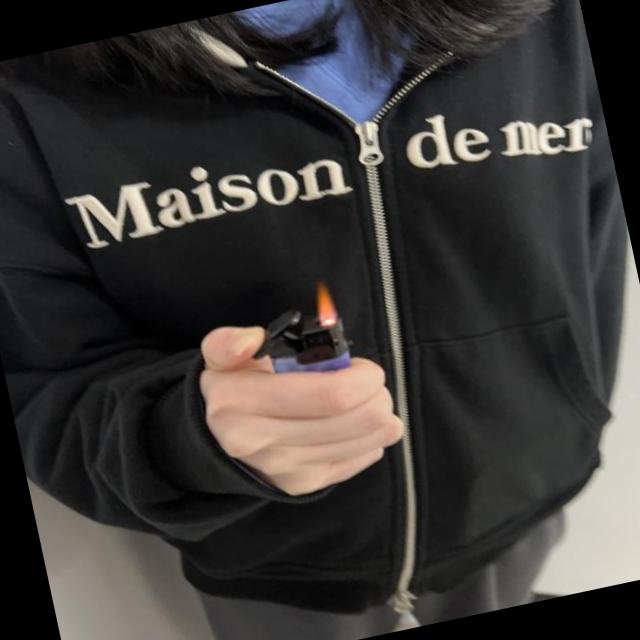Fire: (304, 276, 341, 326)
